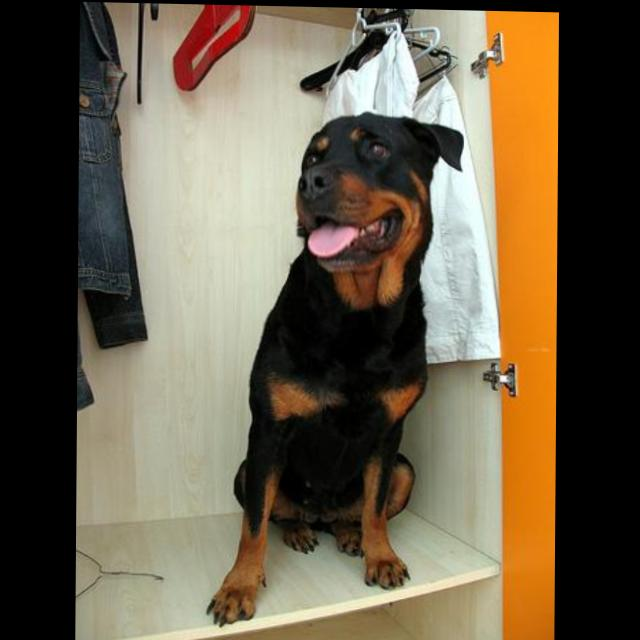rottweiler: (208, 107, 467, 631)
